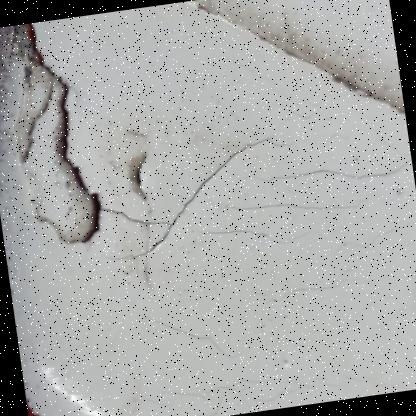Crack: (0, 0, 415, 352), (82, 300, 402, 415), (22, 370, 64, 415)
